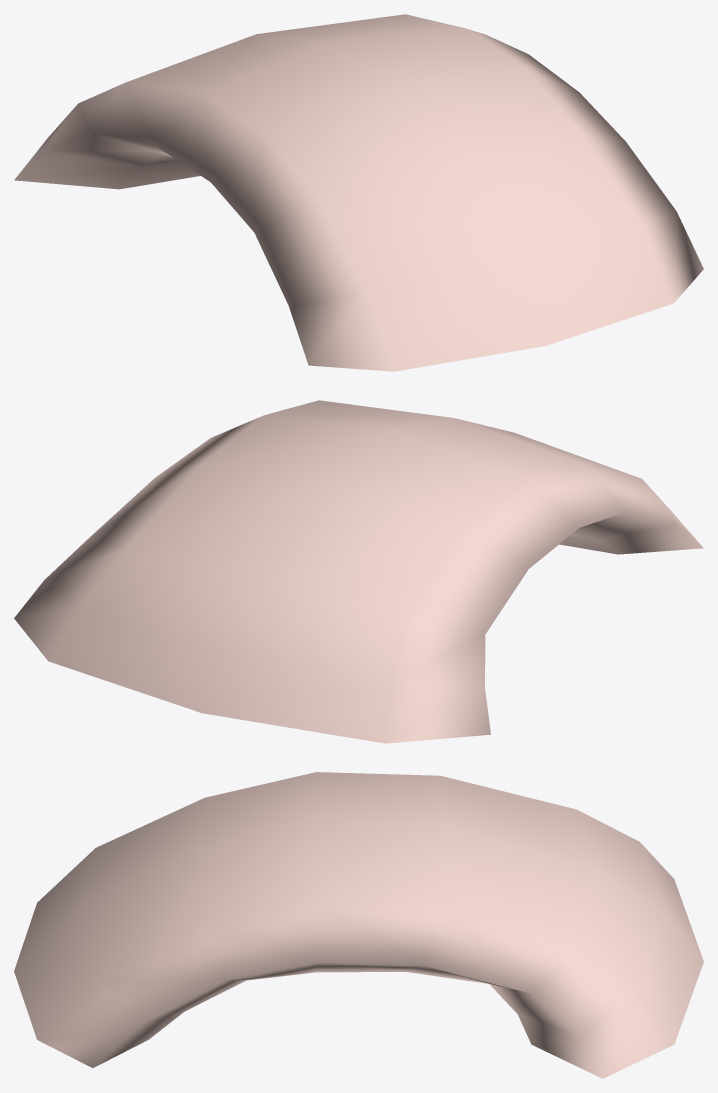
3 views of the same model, one above another, from view 1: azimuth 30°, elevation 25°; view 2: azimuth 150°, elevation 25°; view 3: azimuth 270°, elevation 25° (orthographic).
Parts seen in each view (by area): view 1: Object80; view 2: Object80; view 3: Object80.
Part boxes in pixels (<box>): Object80: <box>14,14,703,371</box>; Object80: <box>14,400,703,743</box>; Object80: <box>14,772,703,1078</box>.
Bounding box in the file's own units: 205 × 61.26 × 255.
